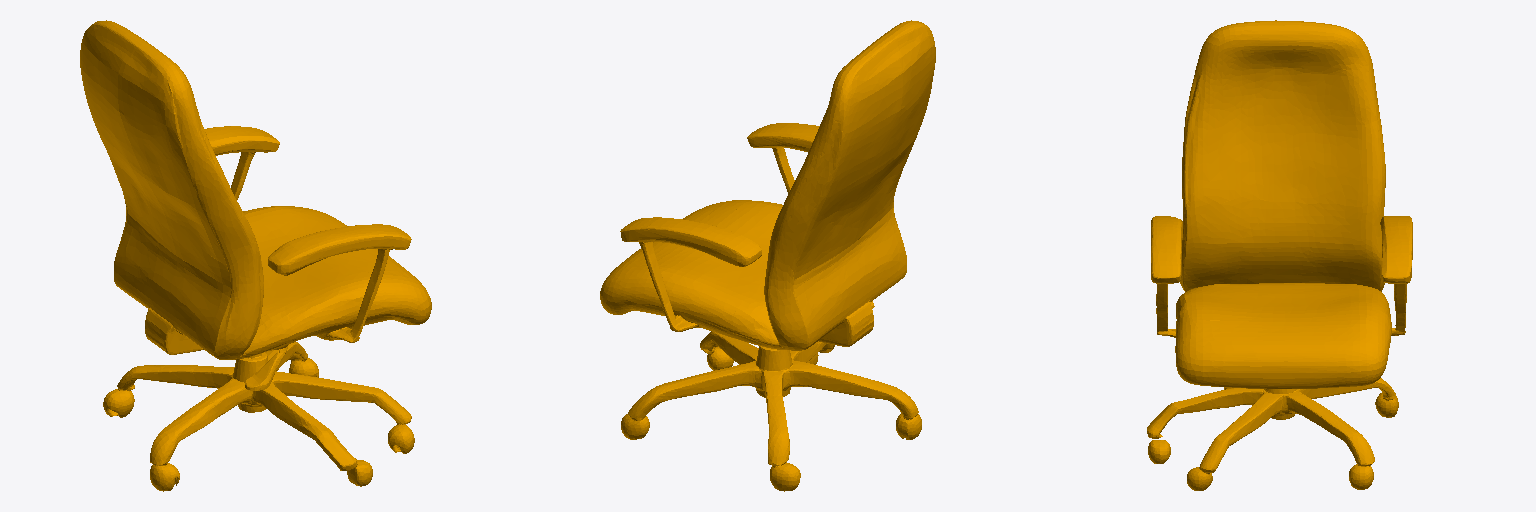
The robot description file, URDF, robot "computer_chair_46":
<?xml version="1.0" ?>
<robot name="computer_chair_46">
   <link name="computer_chair_46">
      <visual>
         <origin xyz="0 0 0" rpy="1.5708 0.0 0.0"/>
         <geometry>
            <mesh filename="mesh/computer_chair_46.obj" scale="1.0 1.0 1.0"/>
         </geometry>
      </visual>
      <collision>
         <origin xyz="0 0 0" rpy="1.5708 0.0 0.0"/>
         <geometry>
            <mesh filename="mesh/computer_chair_46_collision.obj" scale="1.0 1.0 1.0"/>
         </geometry>
         <gazebo>
            <mu1>0.60</mu1>
            <mu2>0.50</mu2>
         </gazebo>
      </collision>
      <inertial>
         <mass value="12.5000"/>
         <origin xyz="0 0 0"/>
         <inertia ixx="1.0" ixy="0.0" ixz="0.0" iyy="1.0" iyz="0.0" izz="1.0"/>
      </inertial>
      <extra_info>
         <scale>1.100000</scale>
         <version>v0.1.5</version>
         <category>computer_chair</category>
         <description>ergonomic blue office chair with armrests, high backrest, and wheeled base</description>
         <min_height>1.0</min_height>
         <max_height>1.2</max_height>
         <real_height>1.1</real_height>
         <min_mass>10.0</min_mass>
         <max_mass>15.0</max_mass>
         <generate_time>20251021131300</generate_time>
         <gs_model>mesh/computer_chair_46_gs.ply</gs_model>
      </extra_info>
   </link>
   <custom_data>
      <quality>
         <MeshGeoChecker>YES</MeshGeoChecker>
         <ImageSegChecker>YES</ImageSegChecker>
         <ImageAestheticChecker>4.90539288520813</ImageAestheticChecker>
         <overall>YES</overall>
      </quality>
   </custom_data>
</robot>

--- What the picture shows (computed from the rendered views, not written in the file) ---
3 views of the same robot in one strip: view 1: azimuth 30°, elevation 25°; view 2: azimuth 150°, elevation 25°; view 3: azimuth 270°, elevation 25° (orthographic).
Robot: computer_chair_46 — 1 links, 0 joints (none); root link computer_chair_46; default pose: every joint at zero.
Visible links, largest first — view 1: computer_chair_46; view 2: computer_chair_46; view 3: computer_chair_46.
Link boxes in pixels (left/top/right/bottom): computer_chair_46: left=80, top=20, right=431, bottom=491; computer_chair_46: left=600, top=20, right=935, bottom=491; computer_chair_46: left=1147, top=20, right=1412, bottom=490.
Size in the robot's own frame: 0.7175 by 0.7103 by 1.1 metres.
1 mesh visuals loaded from 1 distinct referenced files (1 OBJ).
